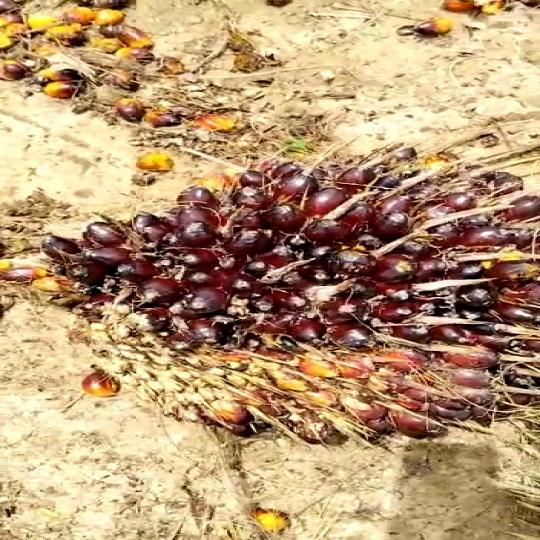mentah: (47, 132, 540, 449)
